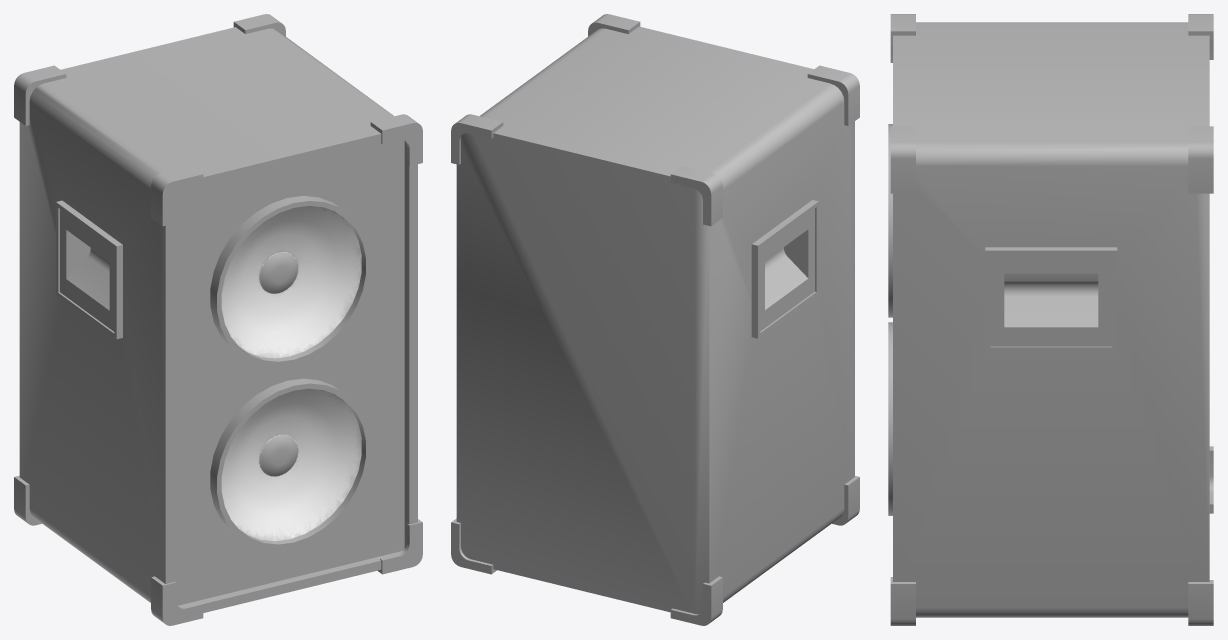
File: StageSpeaker_SM.fbx
The picture shows the model from 3 angles, left to right: view 1: azimuth 30°, elevation 25°; view 2: azimuth 150°, elevation 25°; view 3: azimuth 270°, elevation 25°; orthographic projection. The views are drawn at different scales.
Parts seen in each view (by area): view 1: SpeakerBake; view 2: SpeakerBake; view 3: SpeakerBake.
Part boxes in pixels (bbox=[...]): SpeakerBake: bbox=[14, 14, 422, 625]; SpeakerBake: bbox=[451, 14, 859, 625]; SpeakerBake: bbox=[888, 14, 1213, 625].
Size of the model in its own units: 210 by 336 by 205.
